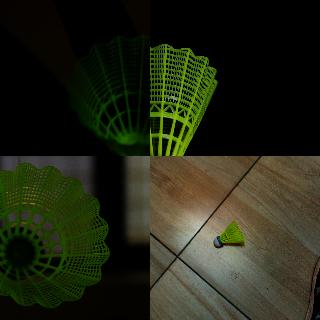shuttlecock: (0, 162, 110, 309), (66, 35, 149, 155), (150, 44, 219, 155), (213, 220, 243, 246)
